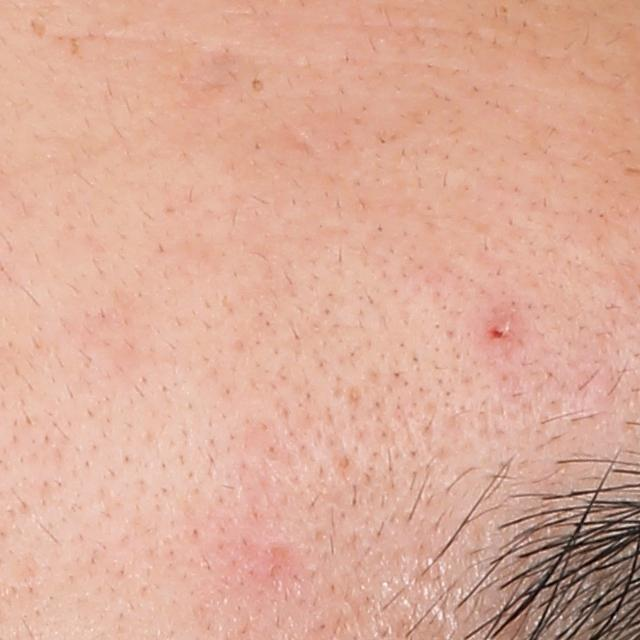comedo: (248, 77, 268, 96)
papule: (482, 312, 527, 358)
